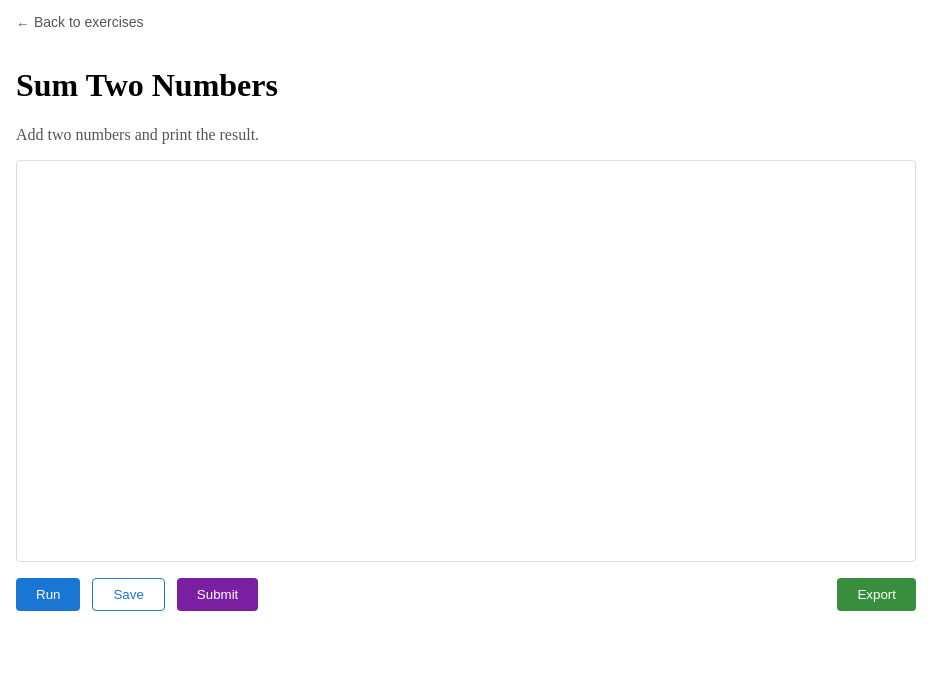
Scenario: Run button › shows TLE warning after 3 seconds
Click the button "Run" at (48, 594), box [16, 578, 80, 611]
Wait 3000 ms
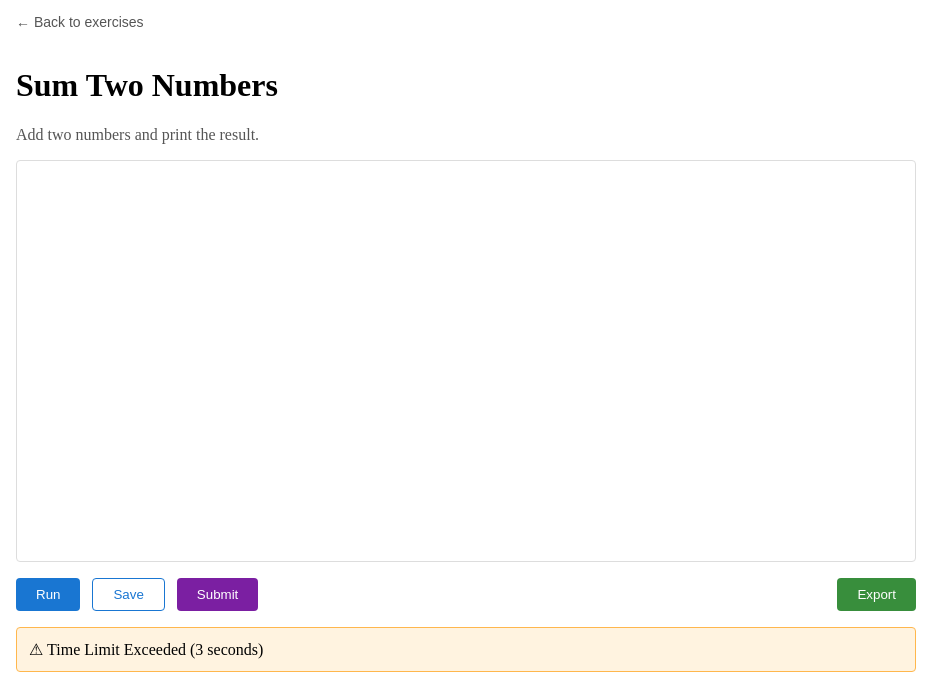
Check: the text "⚠ Time Limit Exceeded (3 seconds)" is shown, box [16, 627, 916, 672]
